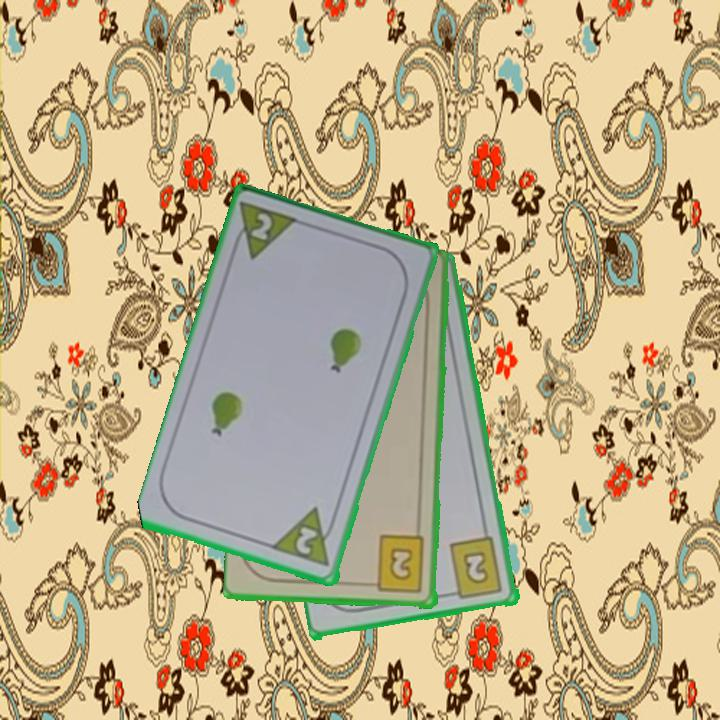2b: (445, 534, 506, 602), (365, 533, 428, 596)
2p: (227, 198, 303, 264), (292, 523, 321, 558)
